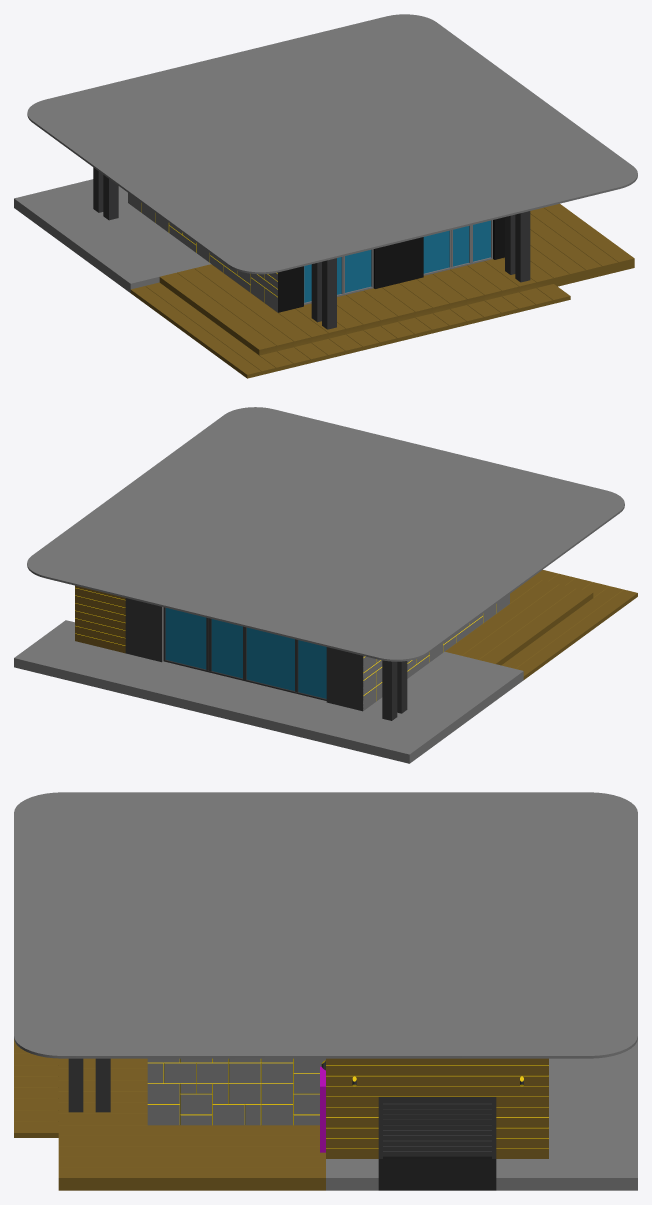
3 renders of one model, top to bottom at view 1: azimuth 30°, elevation 25°; view 2: azimuth 150°, elevation 25°; view 3: azimuth 270°, elevation 25°, orthographic. The views are drawn at different scales.
Visible parts, largest first — view 1: SM_MK11_Base_001; view 2: SM_MK11_Base_001; view 3: SM_MK11_Base_001.
Boxes of the visible parts, left/top/right/bottom form: SM_MK11_Base_001: left=14, top=14, right=637, bottom=378; SM_MK11_Base_001: left=14, top=407, right=637, bottom=763; SM_MK11_Base_001: left=14, top=792, right=637, bottom=1190.
Size of the model in its own units: 2100 by 500 by 2100.
